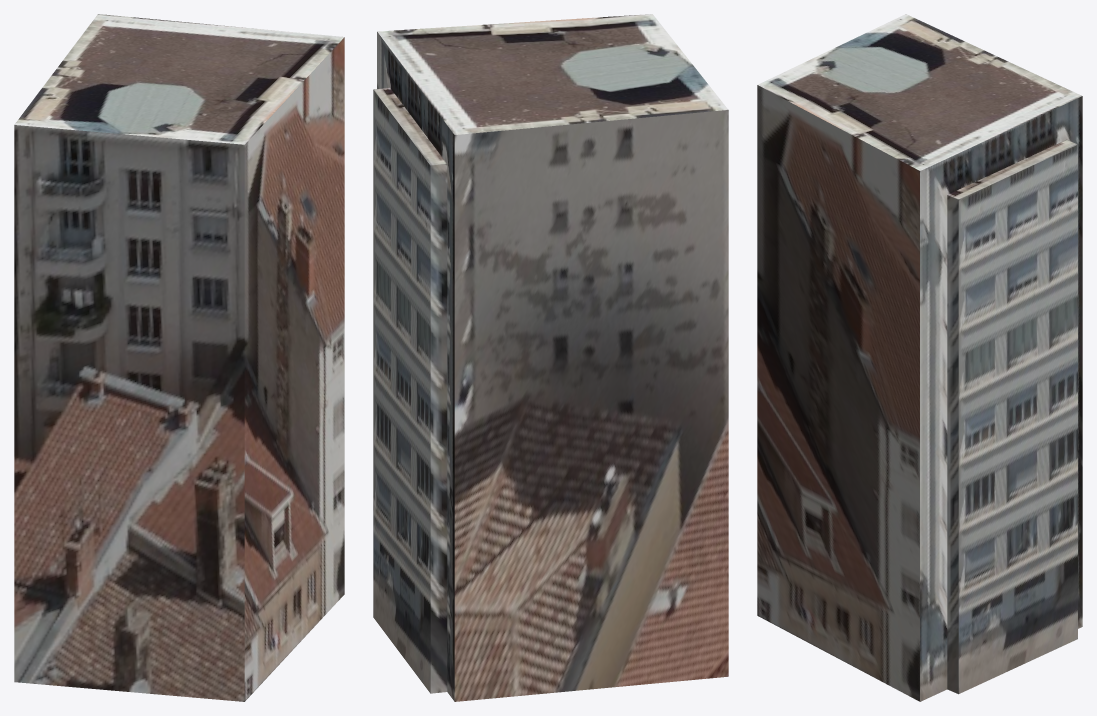
3 views of the same model, side by side, from view 1: azimuth 30°, elevation 25°; view 2: azimuth 150°, elevation 25°; view 3: azimuth 270°, elevation 25° (orthographic). The views are drawn at different scales.
Parts seen in each view (by area): view 1: Z_UP; view 2: Z_UP; view 3: Z_UP.
Boxes of the visible parts, <box> form: Z_UP: <box>14,14,344,701</box>; Z_UP: <box>373,14,728,701</box>; Z_UP: <box>757,14,1082,701</box>.
Bounding box in the file's own units: 17.31 × 27.27 × 15.14.
Materials: 2 (1 with a texture image).
